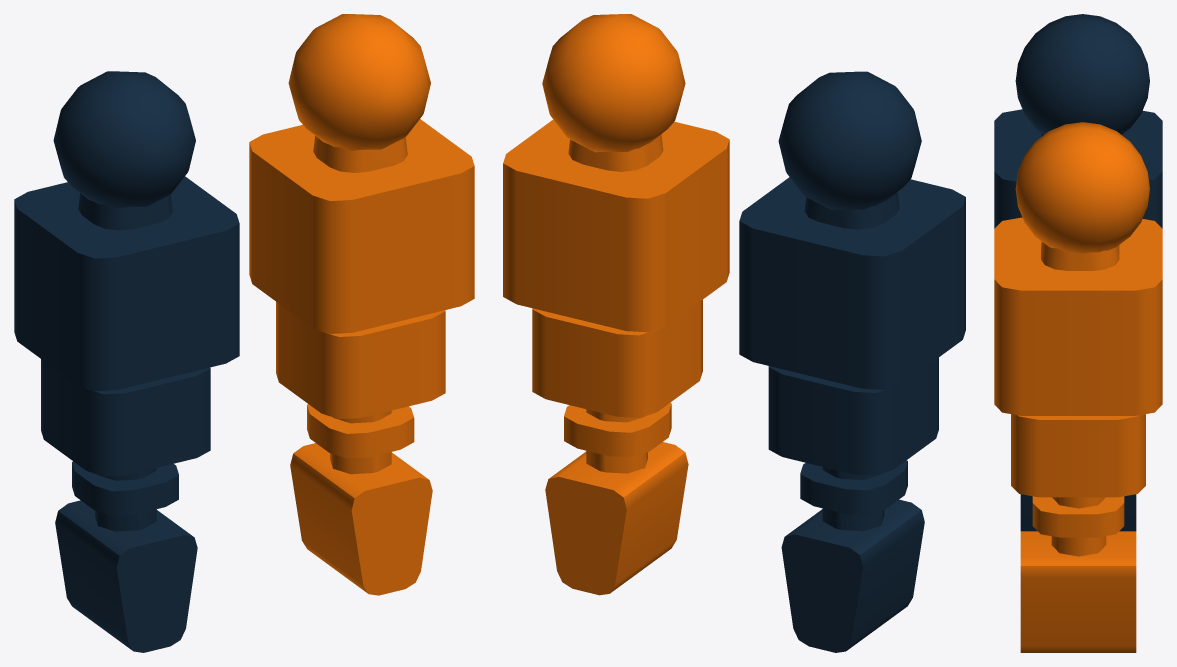
Rendered from Jugadores.fbx.
3 renders of one model, left to right at view 1: azimuth 30°, elevation 25°; view 2: azimuth 150°, elevation 25°; view 3: azimuth 270°, elevation 25°, orthographic. The views are drawn at different scales.
Parts seen in each view (by area): view 1: polySurface305.001, polySurface305.087; view 2: polySurface305.087, polySurface305.001; view 3: polySurface305.001, polySurface305.087.
Boxes of the visible parts, x1,y1,x2,y2 form: polySurface305.001: (249, 14, 474, 595); polySurface305.087: (14, 71, 239, 652); polySurface305.087: (739, 71, 965, 652); polySurface305.001: (503, 14, 729, 595); polySurface305.001: (994, 122, 1162, 652); polySurface305.087: (994, 14, 1162, 531).
Size of the model in its own units: 6.82 by 9.09 by 2.68.
